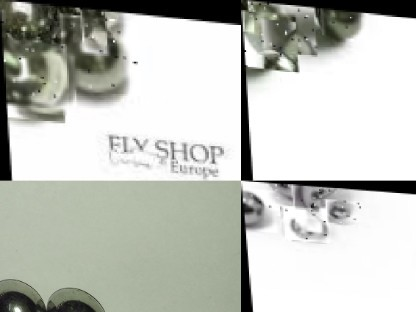ironball: (59, 12, 142, 93), (2, 38, 68, 114), (247, 0, 316, 54), (241, 11, 299, 71), (273, 182, 337, 219), (48, 282, 113, 310), (70, 5, 116, 43), (281, 205, 329, 241), (241, 188, 277, 232), (320, 6, 368, 37), (0, 281, 48, 310), (324, 197, 363, 223), (0, 9, 7, 77), (241, 9, 254, 32)
